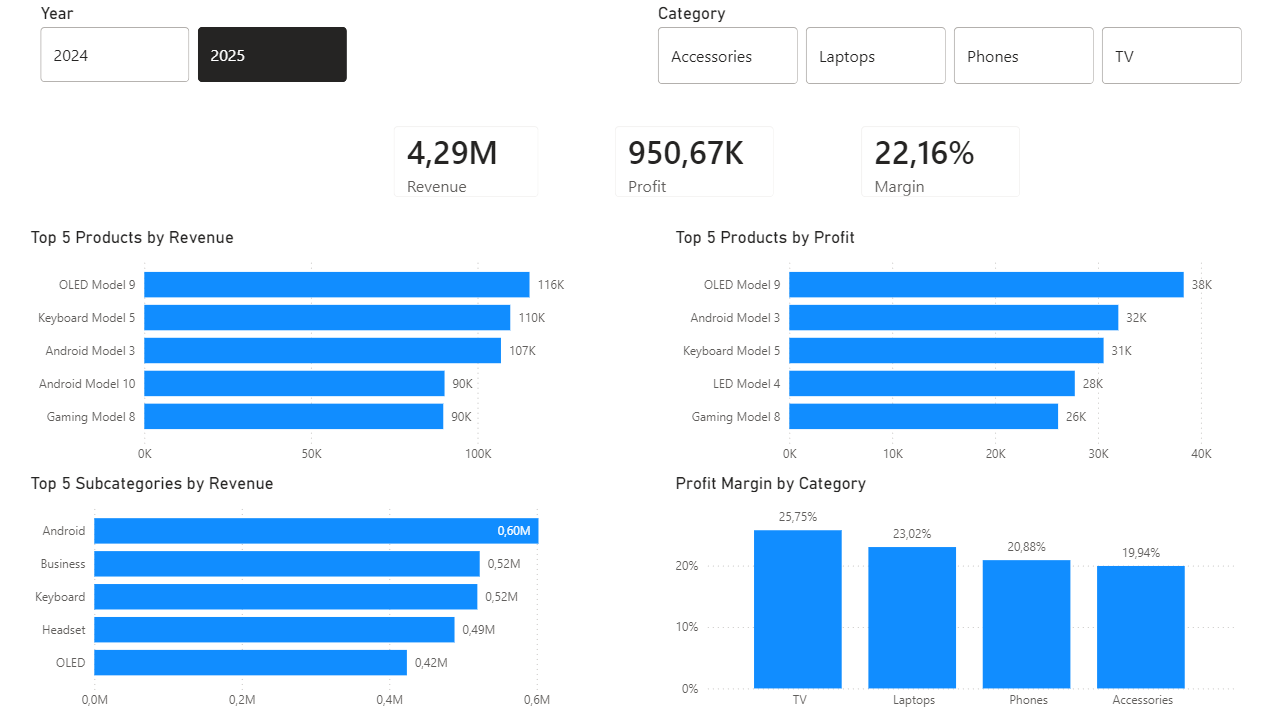

This screenshot's page, from the dashboard's own definition file:
{"tool":"powerbi","page":{"name":"Product Analysis","canvas":[1280,720],"ordinal":2},"visuals":[{"type":"advancedSlicerVisual","fields":{"Values":["Calendar.Year"]},"box":[37,5.5,317,85.1],"z":0},{"type":"advancedSlicerVisual","fields":{"Values":["ProductCategory.Category"]},"box":[655.4,4.9,605.3,105.2],"z":1000},{"type":"cardVisual","fields":{"Data":["Measures (2).Total Sales"]},"box":[378.7,111.1,179.8,105.7],"z":2000},{"type":"cardVisual","fields":{"Data":["Measures (2).Total Profit"]},"box":[599.7,111.1,193.5,105.7],"z":3000},{"type":"cardVisual","fields":{"Data":["Measures (2).Profit Margin"]},"box":[846.7,111.1,193.5,105.7],"z":4000},{"type":"barChart","title":"Top 5 Products by Revenue","fields":{"Category":["Products.Product"],"Y":["Measures (2).Total Sales"]},"box":[27.4,229.2,569.5,245.6],"z":5000},{"type":"barChart","title":"Top 5 Products by Profit","fields":{"Category":["Products.Product"],"Y":["Measures (2).Total Profit"]},"box":[672.4,229.2,569.5,245.6],"z":6000},{"type":"barChart","title":"Top 5 Subcategories by Revenue","fields":{"Category":["ProductSubcategory.Subcategory"],"Y":["Measures (2).Total Sales"]},"box":[27.4,474.8,569,245.6],"z":7000},{"type":"columnChart","title":"Profit Margin by Category","fields":{"Category":["ProductCategory.Category"],"Y":["Measures (2).Profit Margin"]},"box":[672.4,474.8,569,245.6],"z":8000}]}

Visuals, with their boxes in screenshot pixels (x1, y1, x2, y2), scaled from the page's 1280x720 canvas onto the 1274x715 screenshot:
advancedSlicerVisual - Calendar.Year: (37, 5, 352, 90)
advancedSlicerVisual - ProductCategory.Category: (652, 5, 1255, 109)
cardVisual - Measures (2).Total Sales: (377, 110, 556, 215)
cardVisual - Measures (2).Total Profit: (597, 110, 789, 215)
cardVisual - Measures (2).Profit Margin: (843, 110, 1035, 215)
"Top 5 Products by Revenue" barChart: (27, 228, 594, 472)
"Top 5 Products by Profit" barChart: (669, 228, 1236, 472)
"Top 5 Subcategories by Revenue" barChart: (27, 472, 594, 714)
"Profit Margin by Category" columnChart: (669, 472, 1236, 714)
